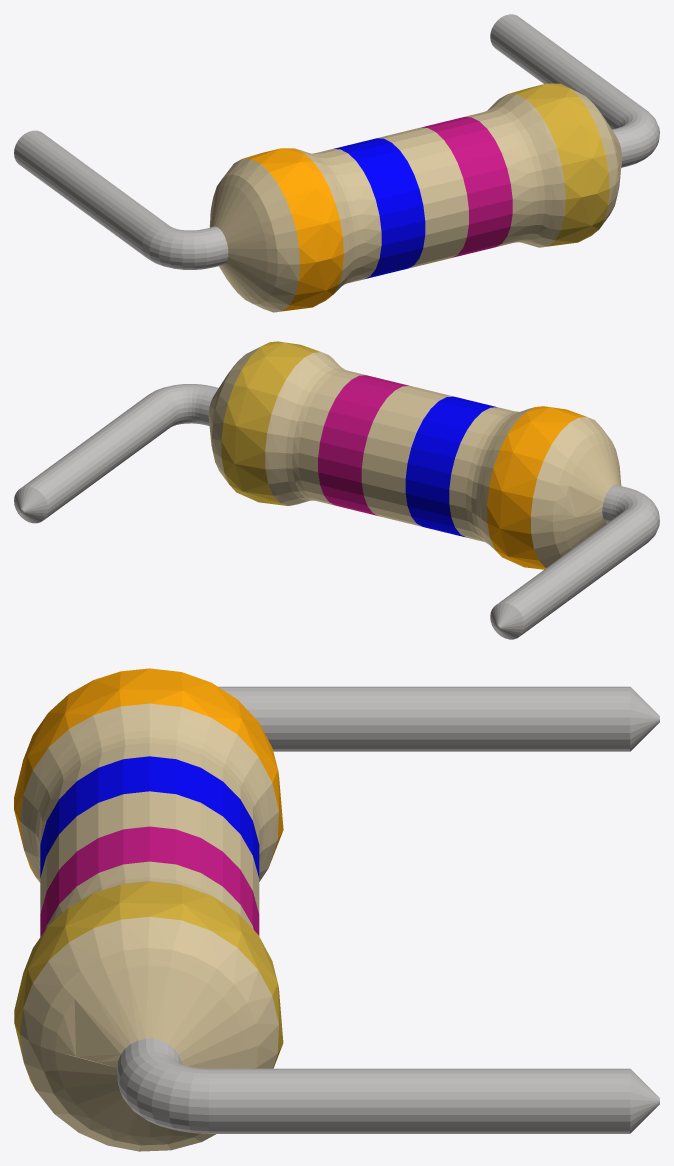
Rendered from Yageo CFR-25 Resistor Axial P7.62mm 360,0 MOhm.obj.
3 renders of one model, top to bottom at view 1: azimuth 30°, elevation 25°; view 2: azimuth 150°, elevation 25°; view 3: azimuth 270°, elevation 25°, orthographic. The views are drawn at different scales.
Visible parts, largest first — view 1: Yageo_CFR-25_Resistor_Axial_P7.62mm_360,0_MOhm; view 2: Yageo_CFR-25_Resistor_Axial_P7.62mm_360,0_MOhm; view 3: Yageo_CFR-25_Resistor_Axial_P7.62mm_360,0_MOhm.
Part boxes in pixels (left/top/right/bottom): Yageo_CFR-25_Resistor_Axial_P7.62mm_360,0_MOhm: left=14, top=14, right=659, bottom=312; Yageo_CFR-25_Resistor_Axial_P7.62mm_360,0_MOhm: left=14, top=341, right=659, bottom=639; Yageo_CFR-25_Resistor_Axial_P7.62mm_360,0_MOhm: left=14, top=668, right=659, bottom=1151.
Bounding box in the file's own units: 0.0167 × 0.00462 × 0.0111.
